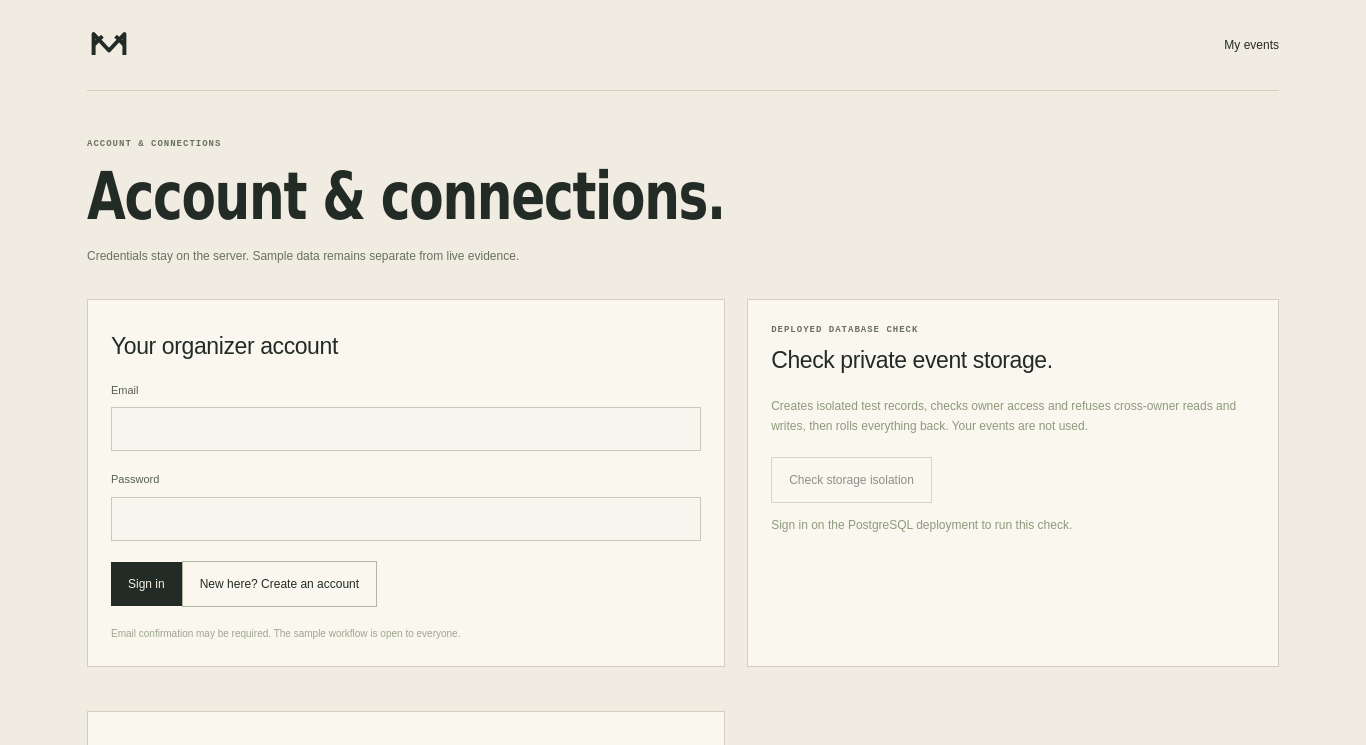
Test: signup waits for confirmation instead of entering the workspace
The image size is (1366, 745).
Click the button "New here? Create an account" at coordinates (279, 584), box [182,561,377,607]
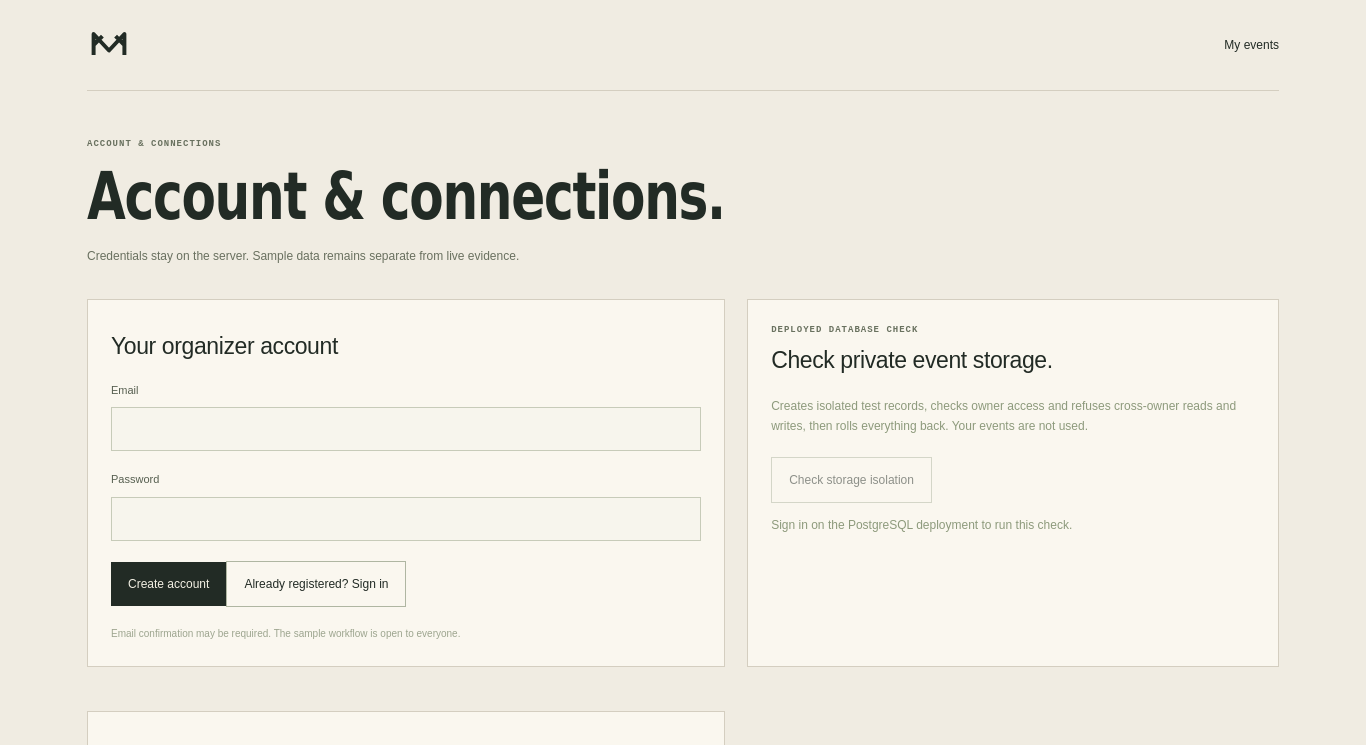
Type "organizer@mend.test" into the field labelled "Email" at coordinates (406, 429), box [111,407,701,451]
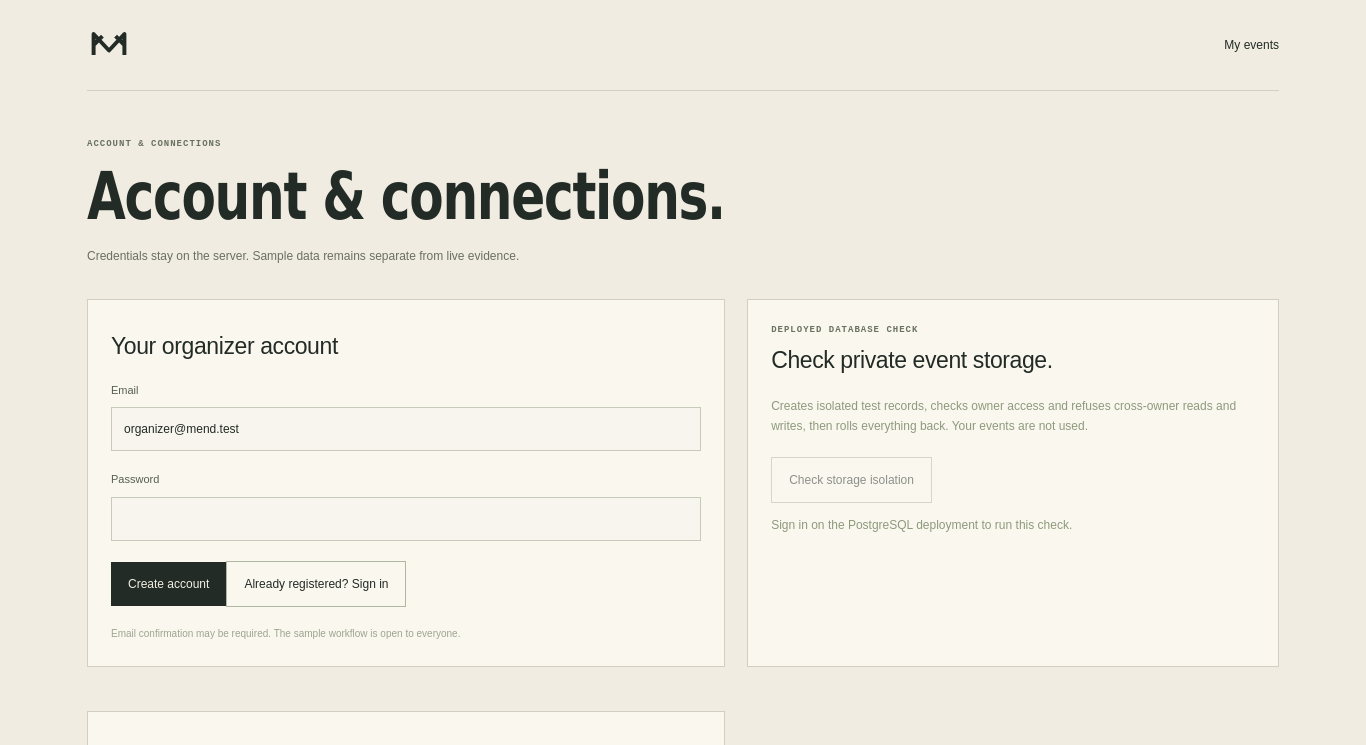
Type "test-password" into the password field labelled "Password" at coordinates (406, 519), box [111,497,701,541]
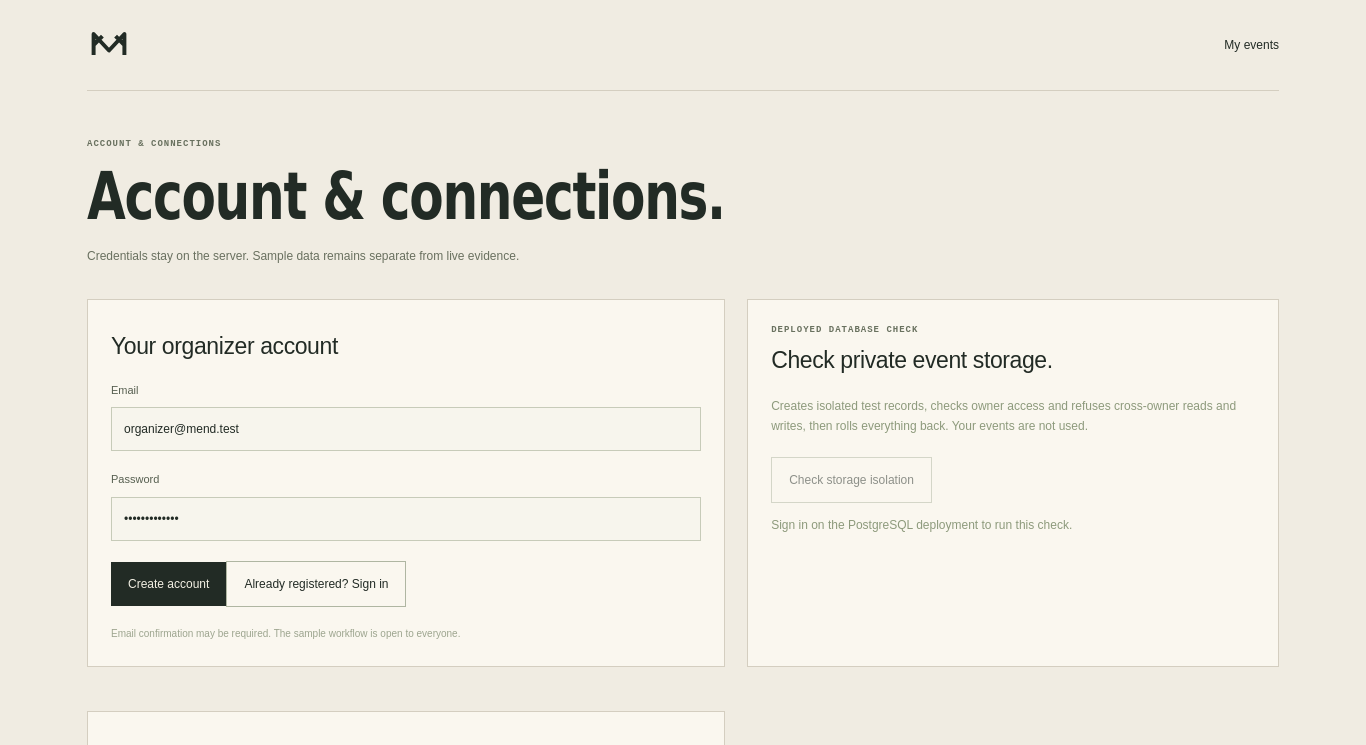
Click the button "Create account" at coordinates (169, 584), box [111,562,226,606]
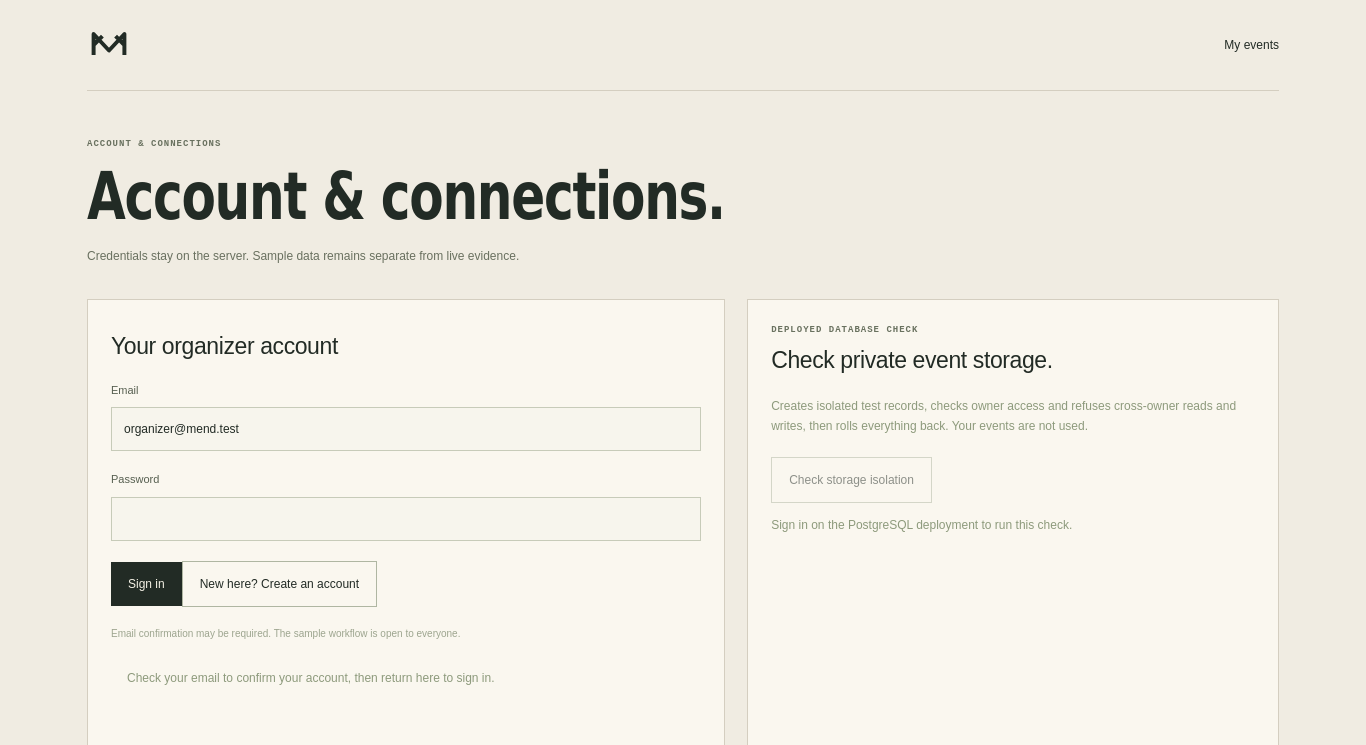
Now the text "Check your email to confirm your account, then return here to sign in." is shown, box [127,671,494,685]
Now the button "Sign in" is shown, box [111,562,182,606]
